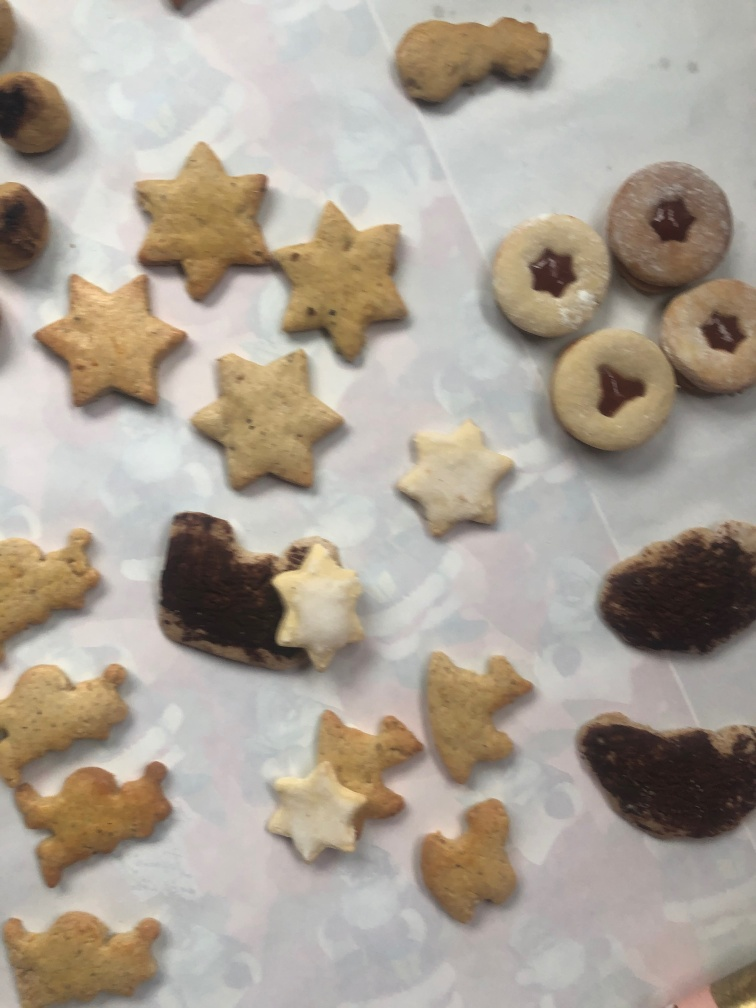christmas shortbread with jam: (605, 159, 738, 295), (488, 208, 618, 345), (549, 323, 677, 458), (660, 274, 756, 394)
lamb: (417, 637, 538, 790), (409, 795, 527, 933), (308, 705, 426, 816)
santa claus: (7, 753, 178, 895), (3, 661, 143, 783), (6, 902, 169, 1006), (1, 522, 108, 662)
snowball: (5, 72, 71, 165), (1, 182, 49, 280)
snowman: (391, 16, 559, 121)
star: (126, 137, 275, 307), (189, 346, 345, 500), (271, 200, 412, 368), (33, 268, 198, 404), (390, 416, 517, 547), (267, 543, 371, 671), (260, 755, 362, 877)
weird #1: (155, 504, 299, 682), (575, 707, 755, 846), (593, 518, 756, 666)
